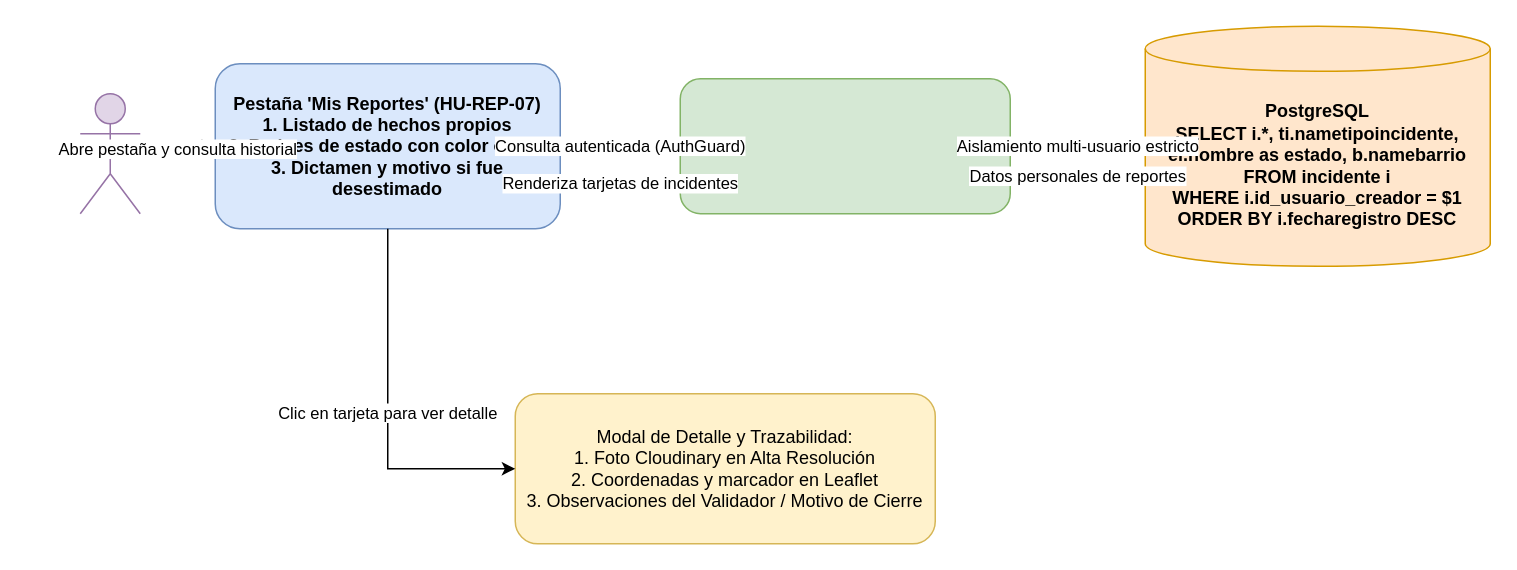
Some shapes in this 1517 by 570 pixel diagram are drawn without their labels. The shapes that lost their labels are listed below. From the top down, each one's box as (x1, y1, x2, y2) in pixels, then its label:
(79, 92, 140, 214): Reportero de Campo
(679, 77, 1010, 214): Endpoint Seguro: GET /api/incidentes/mis-reportes (Extrae req.session.idusuario)
